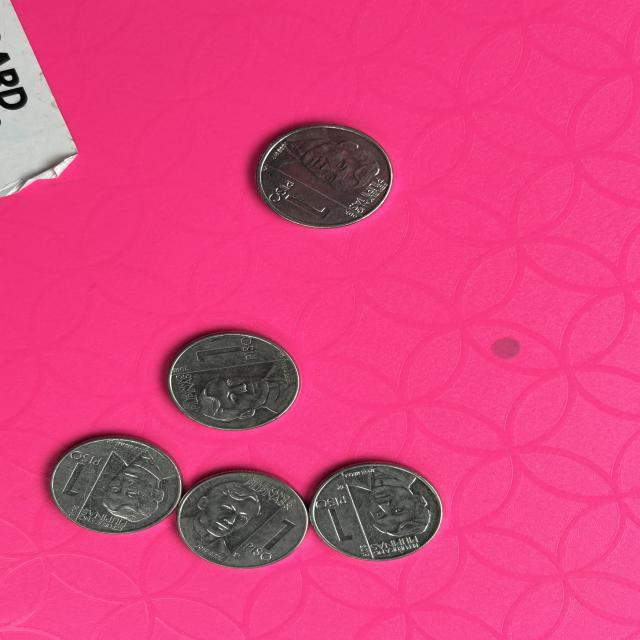1_New_Front: (265, 163, 338, 235), (57, 434, 112, 501), (314, 494, 368, 554), (239, 510, 298, 564), (183, 345, 270, 375)
